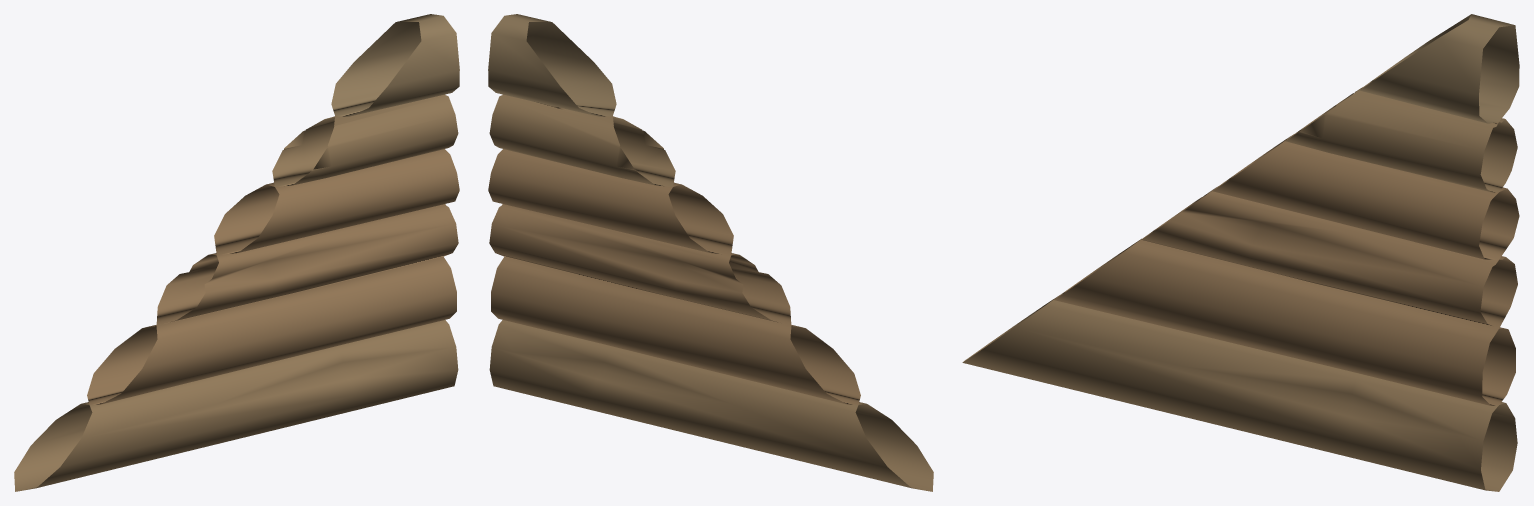
Rendered from rpgpp_ag_roof_end_01_6x3_wall_half_a.fbx.
3 views of the same model, side by side, from view 1: azimuth 30°, elevation 25°; view 2: azimuth 150°, elevation 25°; view 3: azimuth 330°, elevation 25° (orthographic). The views are drawn at different scales.
Parts seen in each view (by area): view 1: rpgpp_ag_roof_end_01_6x3_wall_half_a; view 2: rpgpp_ag_roof_end_01_6x3_wall_half_a; view 3: rpgpp_ag_roof_end_01_6x3_wall_half_a.
Part boxes in pixels (x1=…): rpgpp_ag_roof_end_01_6x3_wall_half_a: x1=14, y1=14, x2=459, y2=491; rpgpp_ag_roof_end_01_6x3_wall_half_a: x1=488, y1=14, x2=933, y2=491; rpgpp_ag_roof_end_01_6x3_wall_half_a: x1=962, y1=14, x2=1519, y2=491.
Bounding box in the file's own units: 3.21 × 2.66 × 0.4342.
